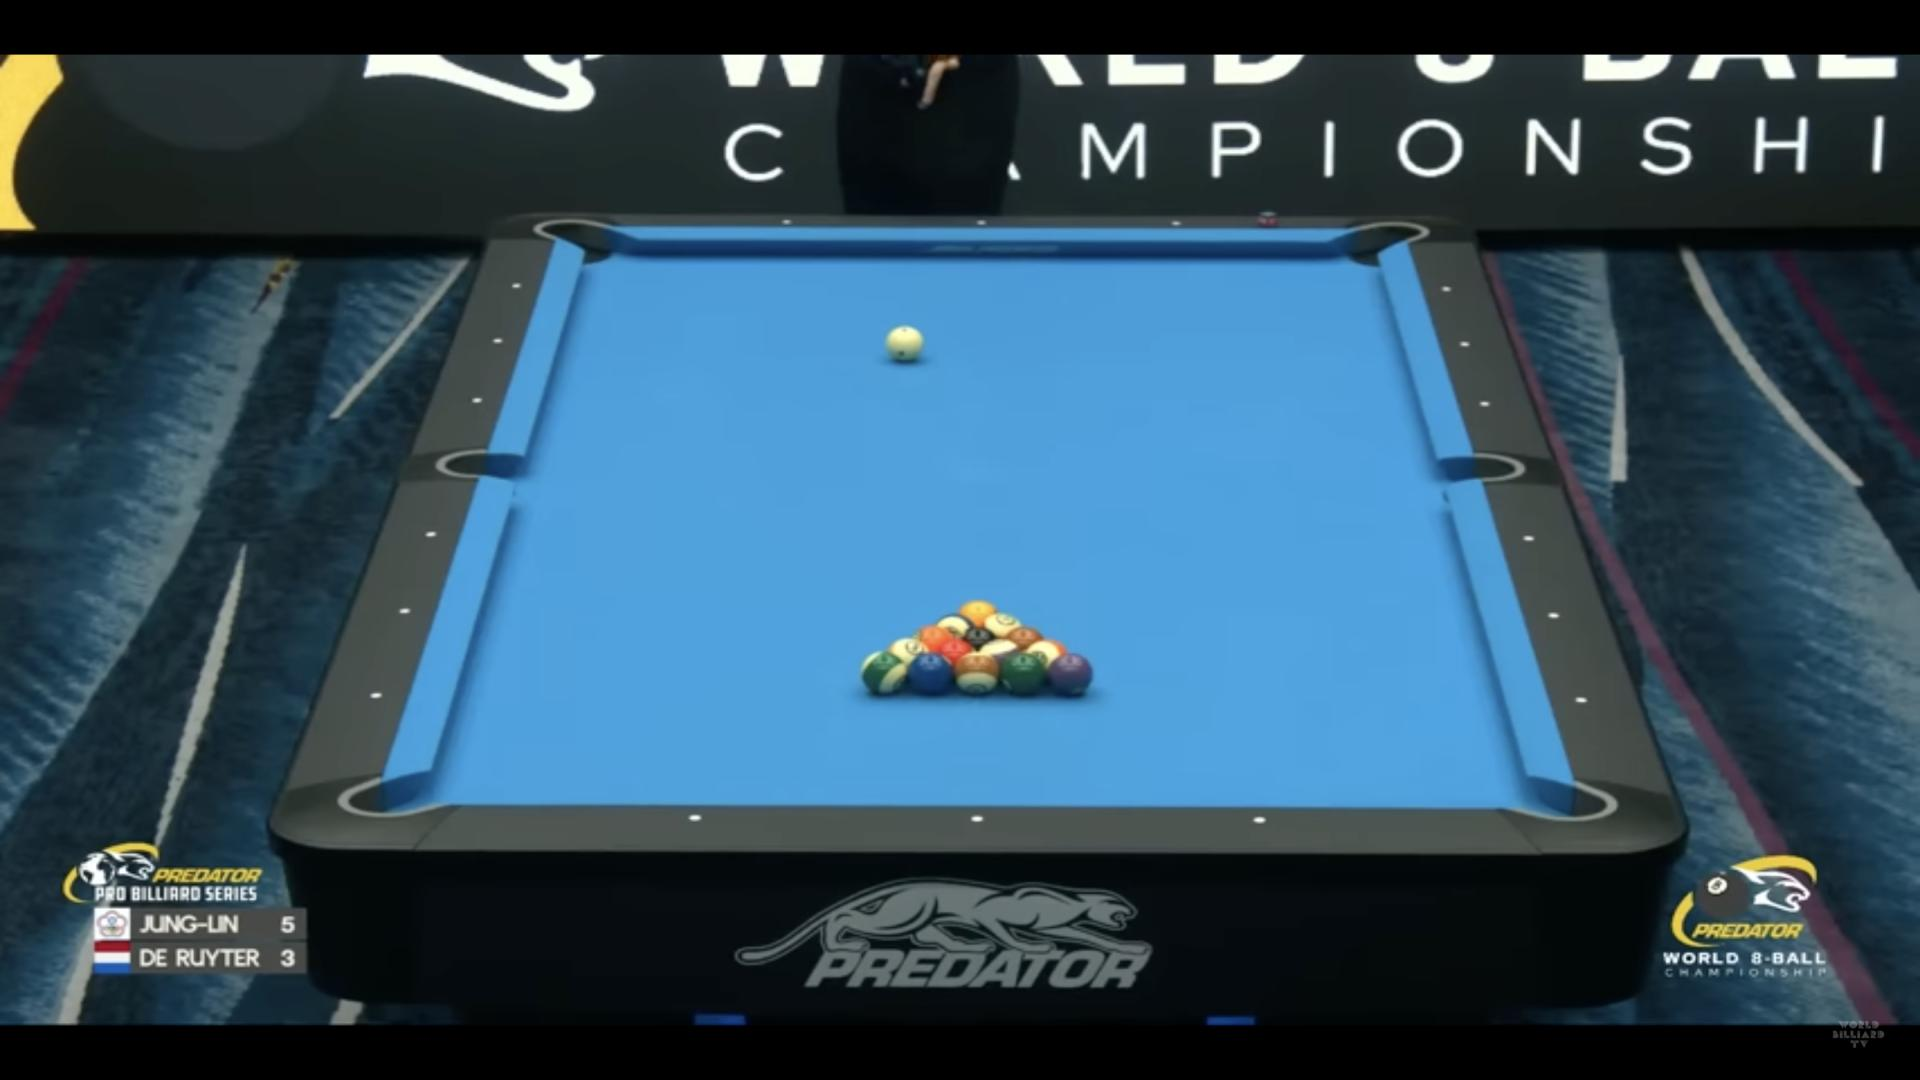Black: (963, 628, 996, 651)
Cue: (886, 326, 923, 361)
Dot: (1545, 611, 1563, 624), (1520, 533, 1538, 546), (1573, 694, 1589, 707), (971, 812, 985, 825), (687, 814, 702, 825), (1254, 814, 1269, 825), (491, 335, 505, 347), (371, 690, 384, 702), (398, 605, 411, 617), (425, 529, 438, 541), (471, 394, 484, 406), (510, 280, 524, 291), (1478, 398, 1490, 409), (1460, 339, 1472, 349), (1441, 284, 1453, 294), (1171, 219, 1182, 228), (782, 218, 791, 227), (977, 218, 986, 227)
Solid: (1000, 651, 1046, 695), (909, 651, 955, 695), (1047, 654, 1093, 695), (913, 625, 953, 654), (960, 601, 998, 626), (1006, 626, 1043, 651), (939, 640, 972, 666)
Striped: (861, 650, 906, 695), (955, 653, 1000, 695), (1025, 640, 1068, 667), (887, 638, 930, 666), (980, 638, 1021, 665), (984, 613, 1022, 638), (935, 615, 973, 638)
